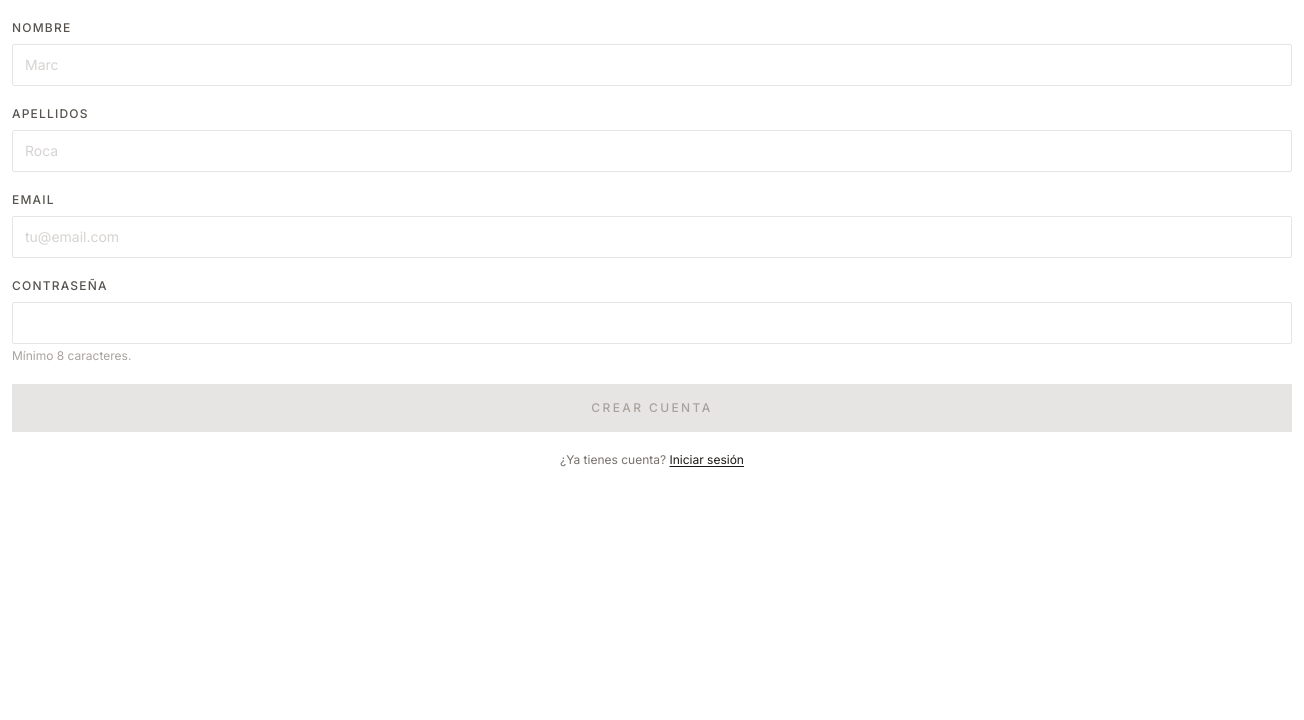
it: RegisterForm › shows email_already_registered error banner on 409 response
Type "Joan" into the field labelled "Nombre".
click(652, 65); type("Joan")  # box left=12, top=44, right=1292, bottom=86
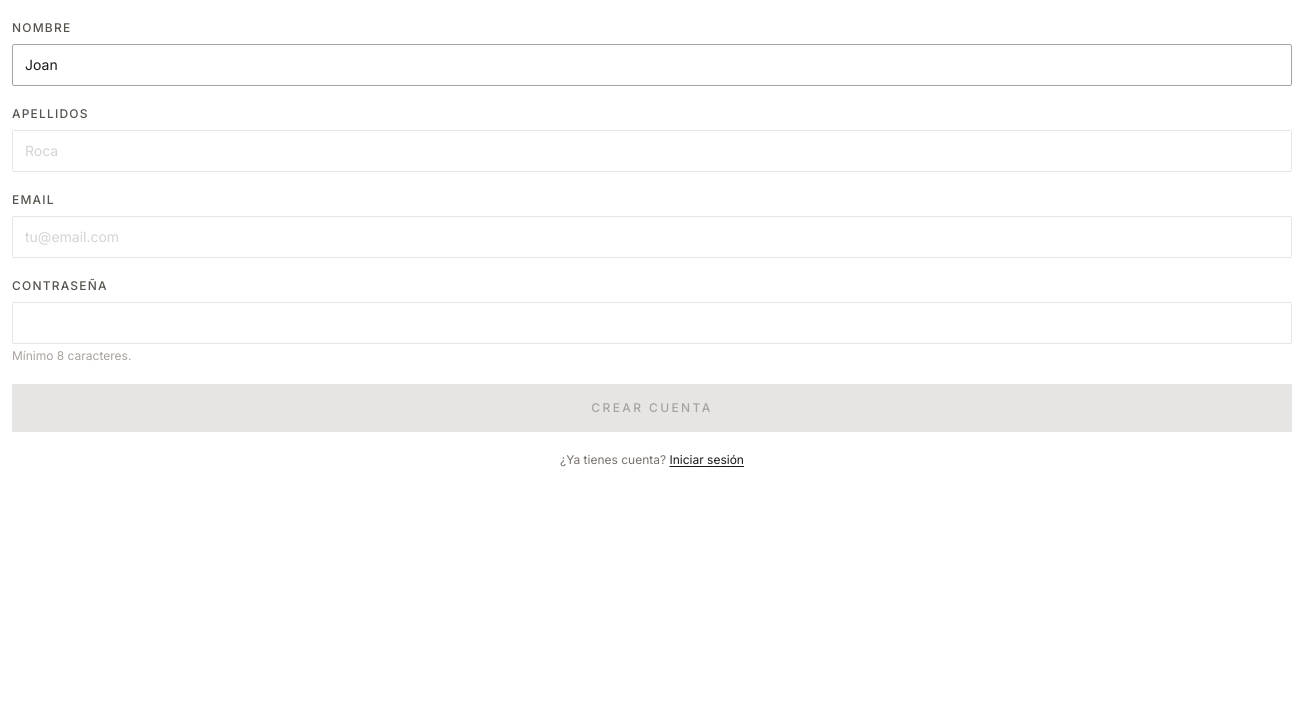
Type "Costa" into the field labelled "Apellidos".
click(652, 151); type("Costa")  # box left=12, top=130, right=1292, bottom=172
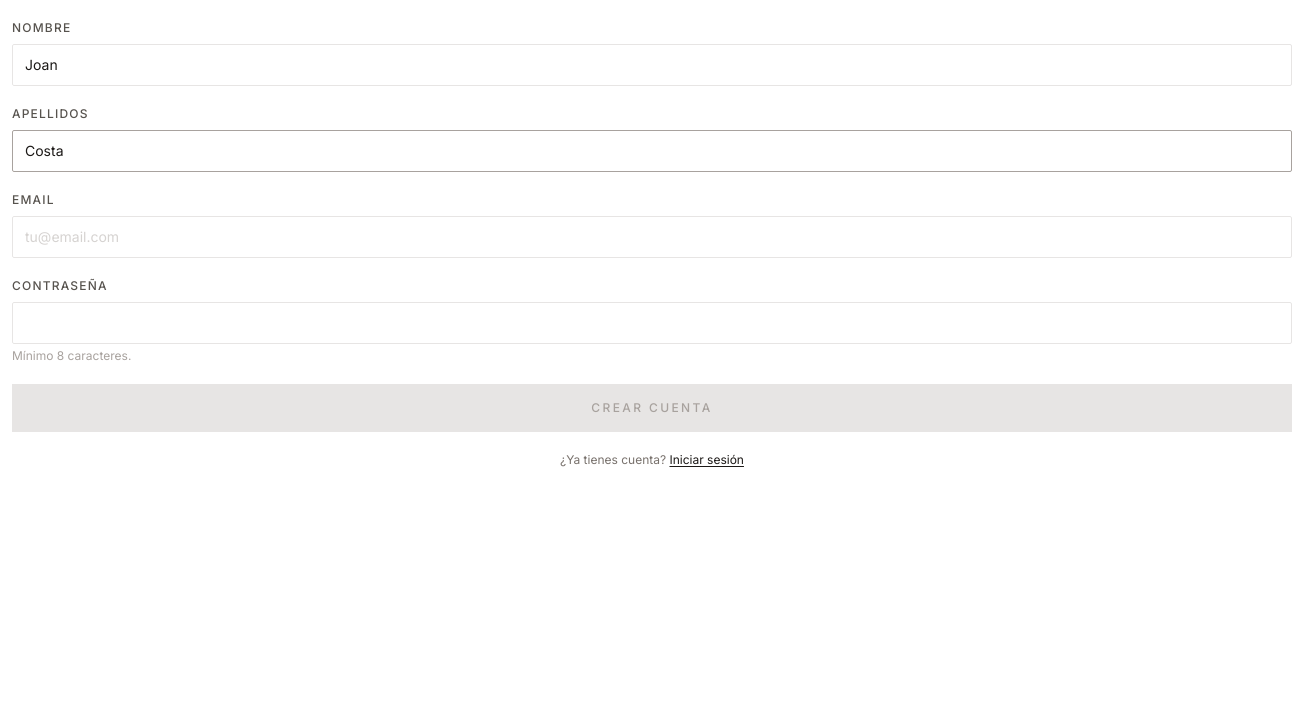
Type "joan@example.com" into the field labelled "Email".
click(652, 237); type("joan@example.com")  # box left=12, top=216, right=1292, bottom=258
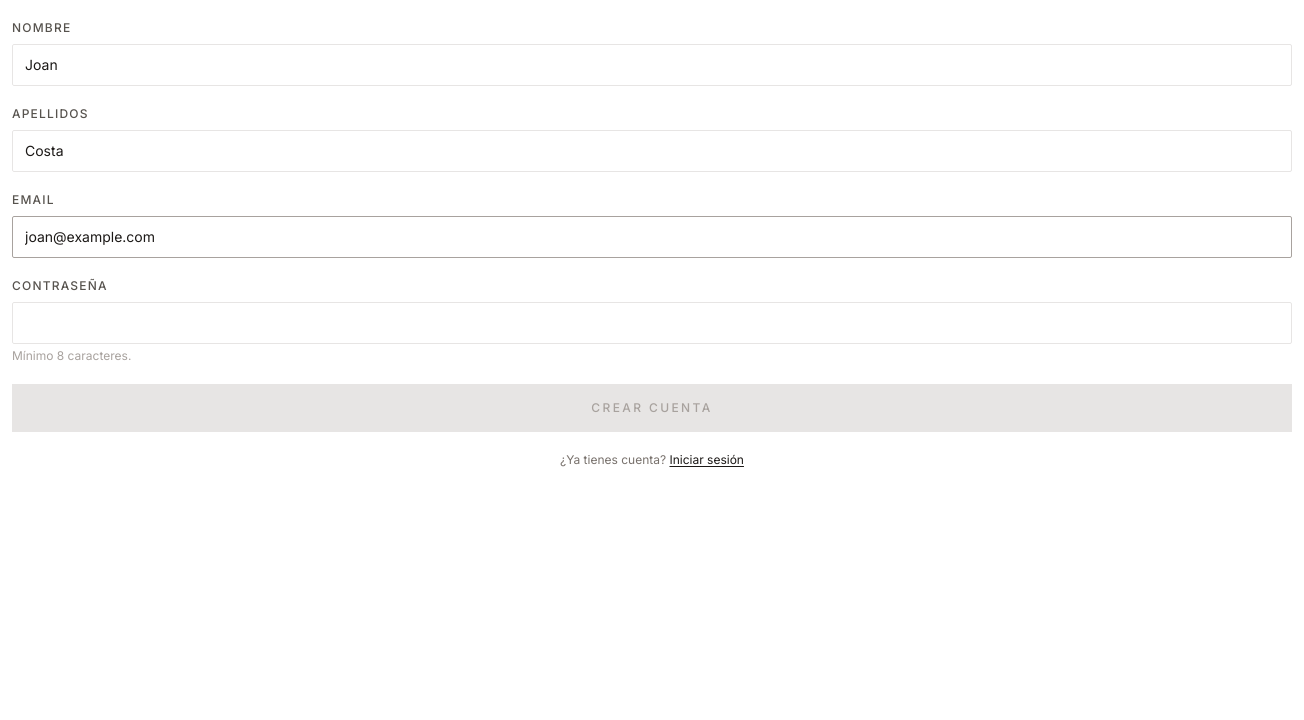
Type "password123" into the password field labelled "Contraseña".
click(652, 323); type("password123")  # box left=12, top=302, right=1292, bottom=344
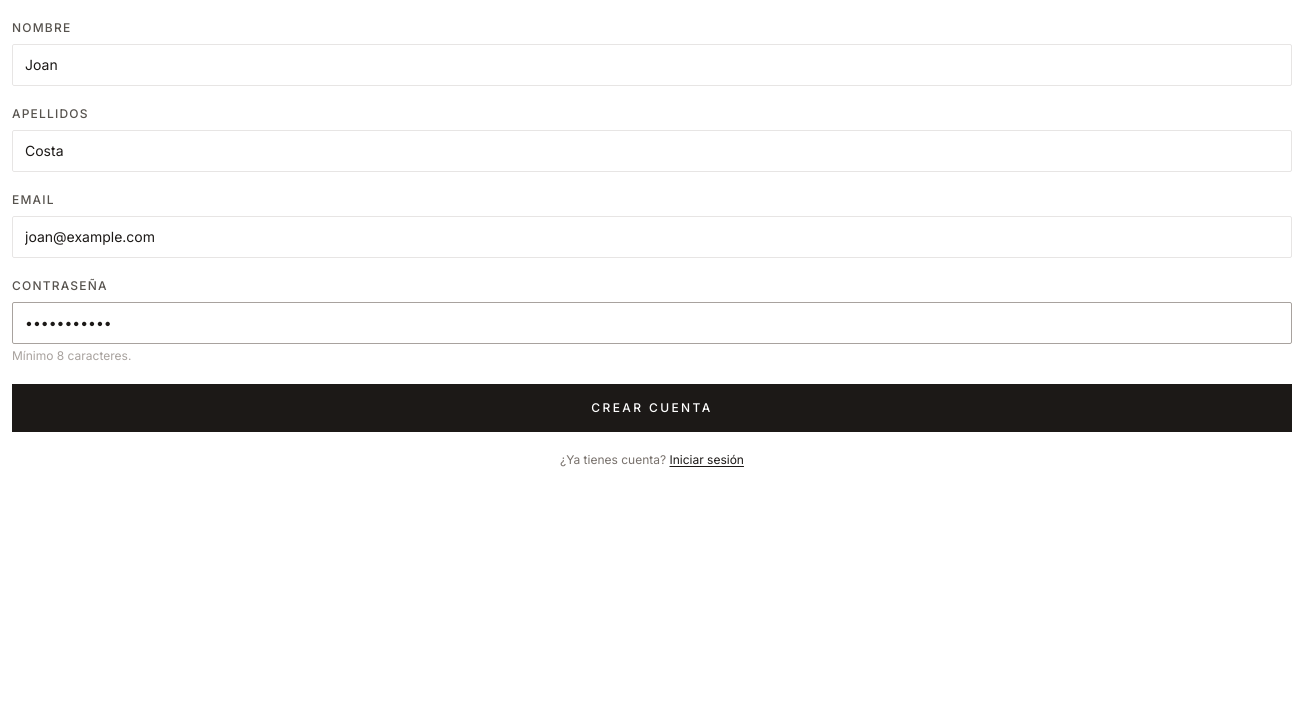
Click the button "Crear cuenta".
click(652, 408)  # box left=12, top=384, right=1292, bottom=432
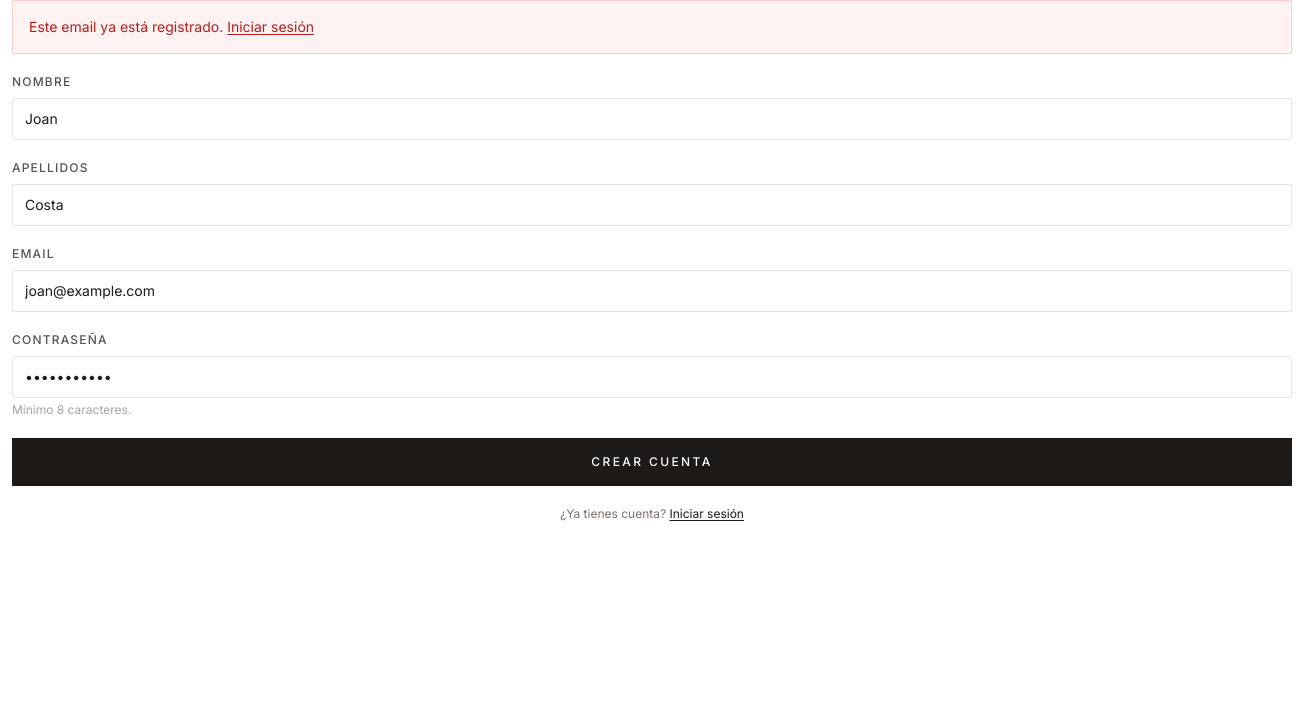
Expected: the text "Este email ya está registrado. Iniciar sesión" is shown, left=29, top=18, right=314, bottom=35
